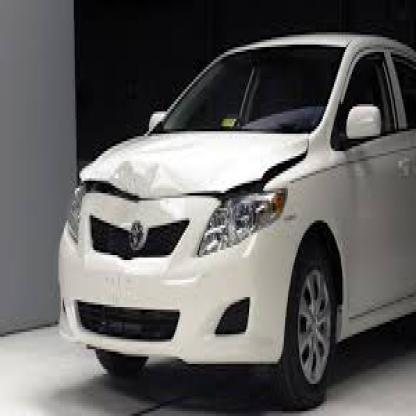dent: (86, 151, 170, 206)
